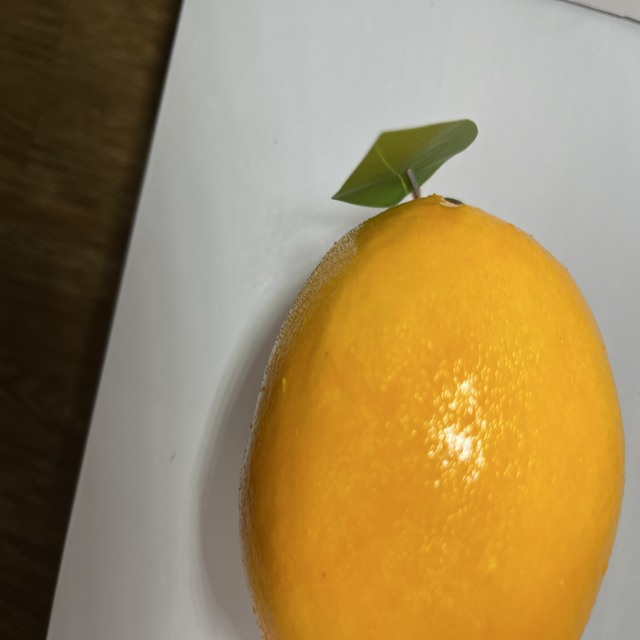Cam vang: (229, 195, 630, 640)
